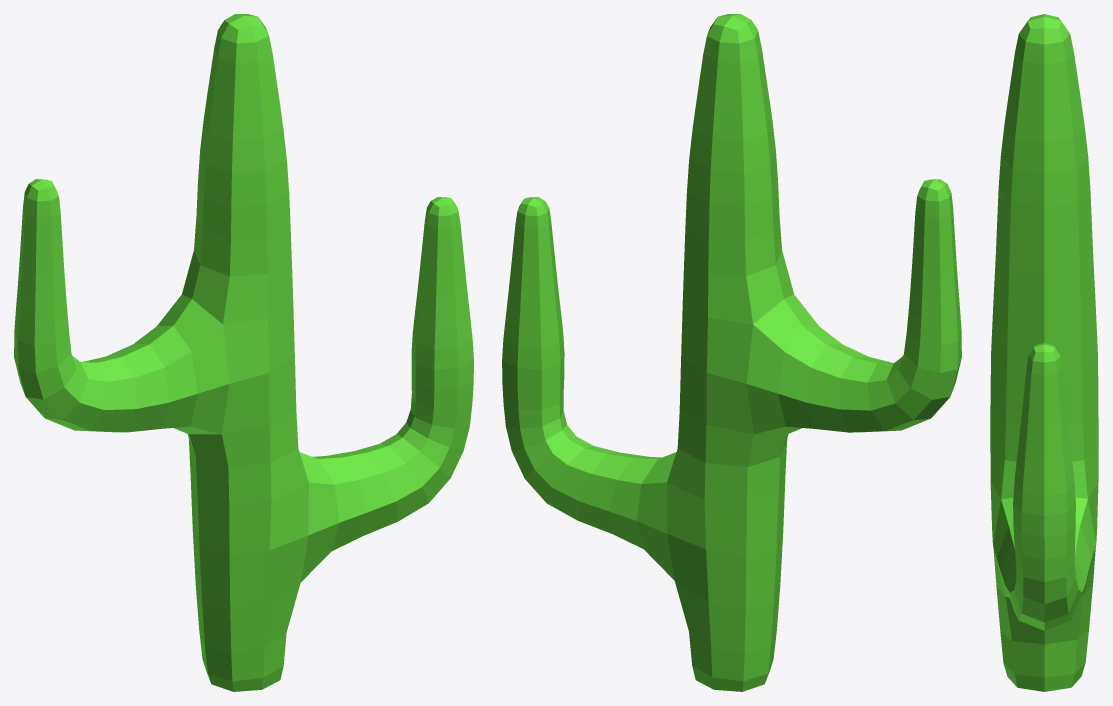
The model's file is Kacktus.fbx.
3 views of the same model, side by side, from view 1: azimuth 30°, elevation 25°; view 2: azimuth 150°, elevation 25°; view 3: azimuth 270°, elevation 25° (orthographic).
Visible parts, largest first — view 1: Cube; view 2: Cube; view 3: Cube.
Boxes of the visible parts, left/top/right/bottom form: Cube: left=14, top=14, right=473, bottom=691; Cube: left=502, top=14, right=961, bottom=691; Cube: left=990, top=14, right=1098, bottom=691.
Size of the model in its own units: 331 by 465 by 68.6.
